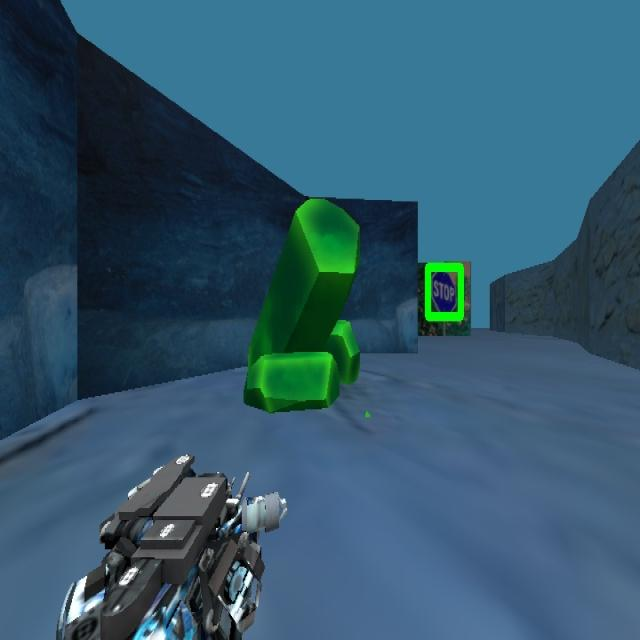Diamon: (242, 196, 361, 412)
Stop_Sign: (423, 260, 465, 321)
